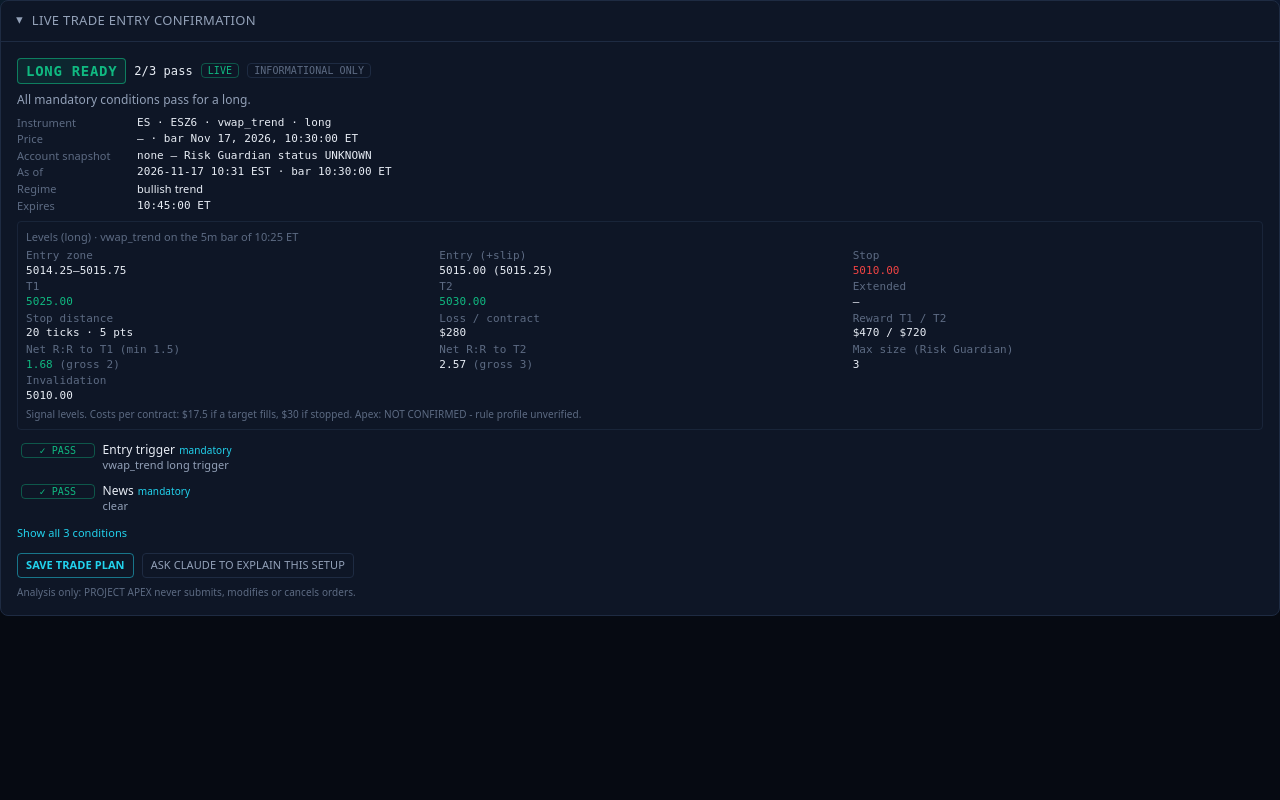
Test: saves a plan without sending an order and links to the Terminal
Click the button with test id "confirm-save-plan" at (75, 565), box [17,553,134,578]
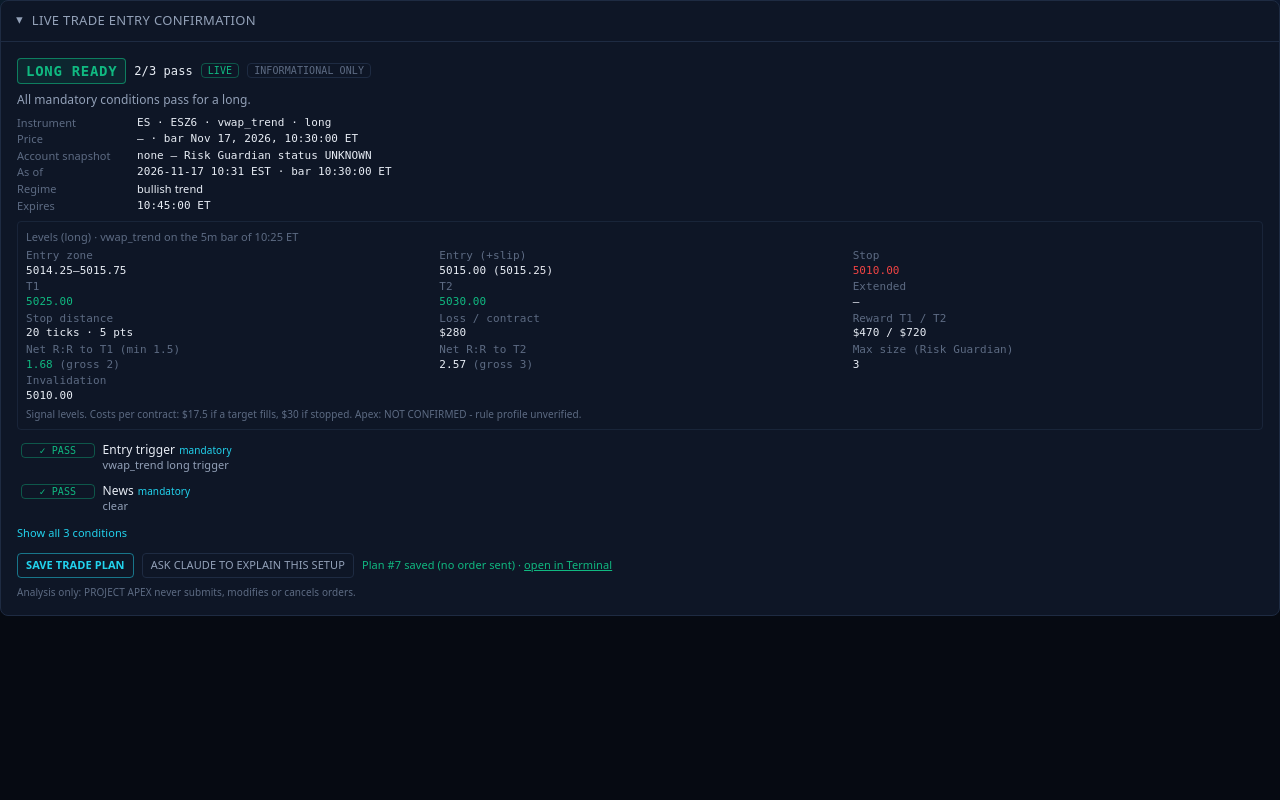
Expected: the element with test id "confirm-saved" is shown, [362,558,612,573]
Expected: the element with test id "confirm-saved" shows "no order sent", [401,557,524,572]
